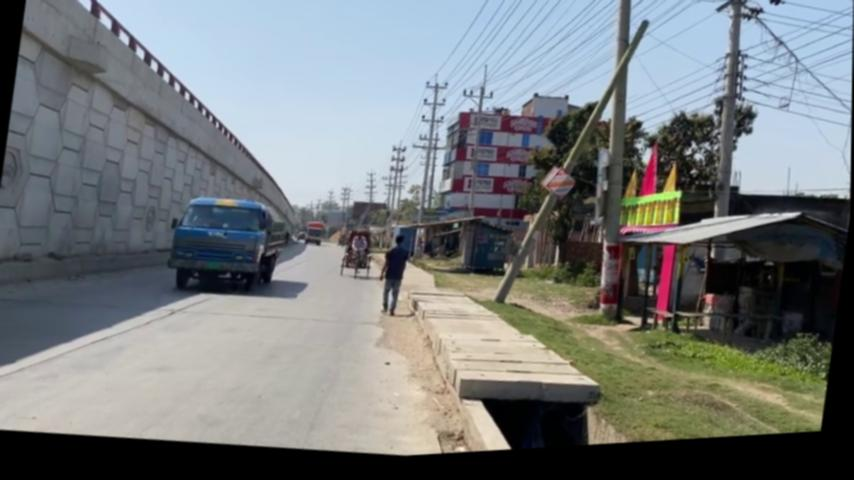Bench: (163, 189, 293, 304)
Car: (397, 301, 644, 461)
Fallen-tree: (0, 0, 236, 271)
Fence: (376, 236, 413, 323)
Garbage: (492, 12, 650, 321), (574, 0, 662, 329)
Muddy road: (335, 221, 385, 289)
Rickshaw: (304, 224, 326, 251)
